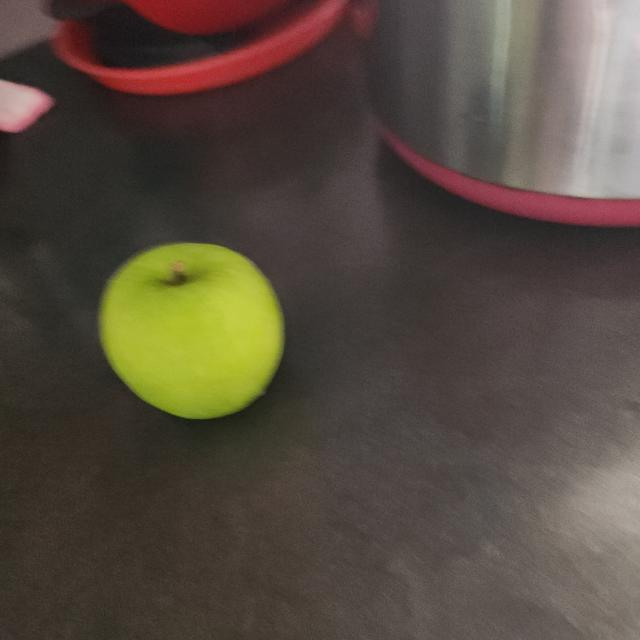apple: (91, 233, 298, 430)
